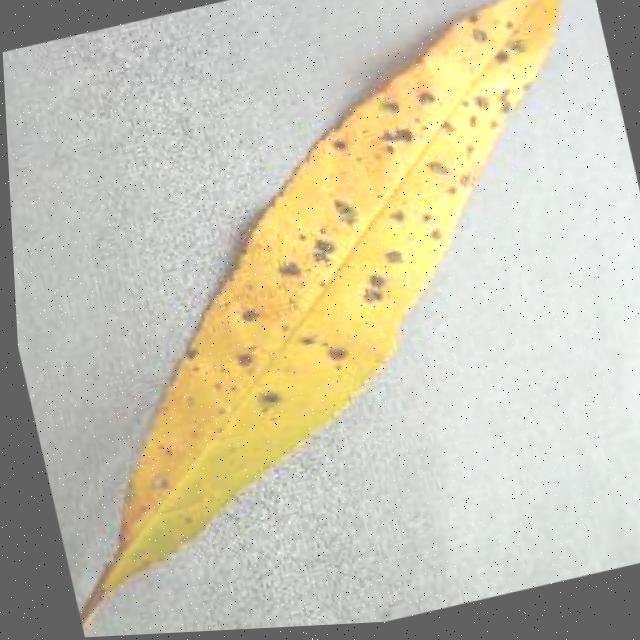Bacterial_spot: (0, 0, 640, 616)
